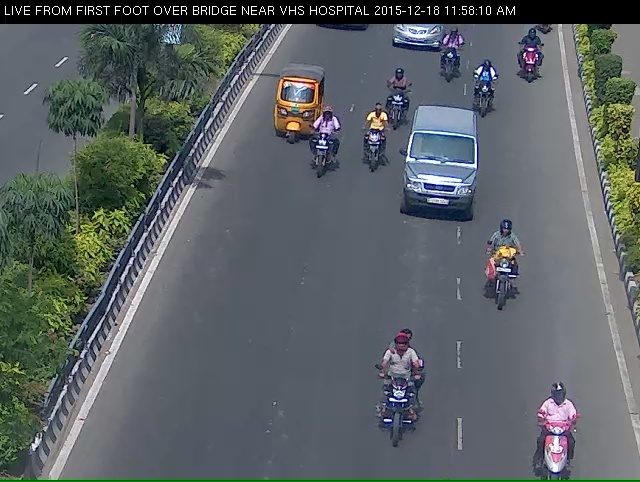Auto: (264, 70, 311, 152)
Car: (399, 115, 479, 227), (386, 18, 439, 57)
Person: (361, 363, 429, 469), (528, 406, 586, 480), (485, 234, 518, 326), (467, 64, 502, 125), (307, 120, 334, 189), (512, 36, 544, 90), (360, 113, 382, 185), (384, 77, 405, 141)
